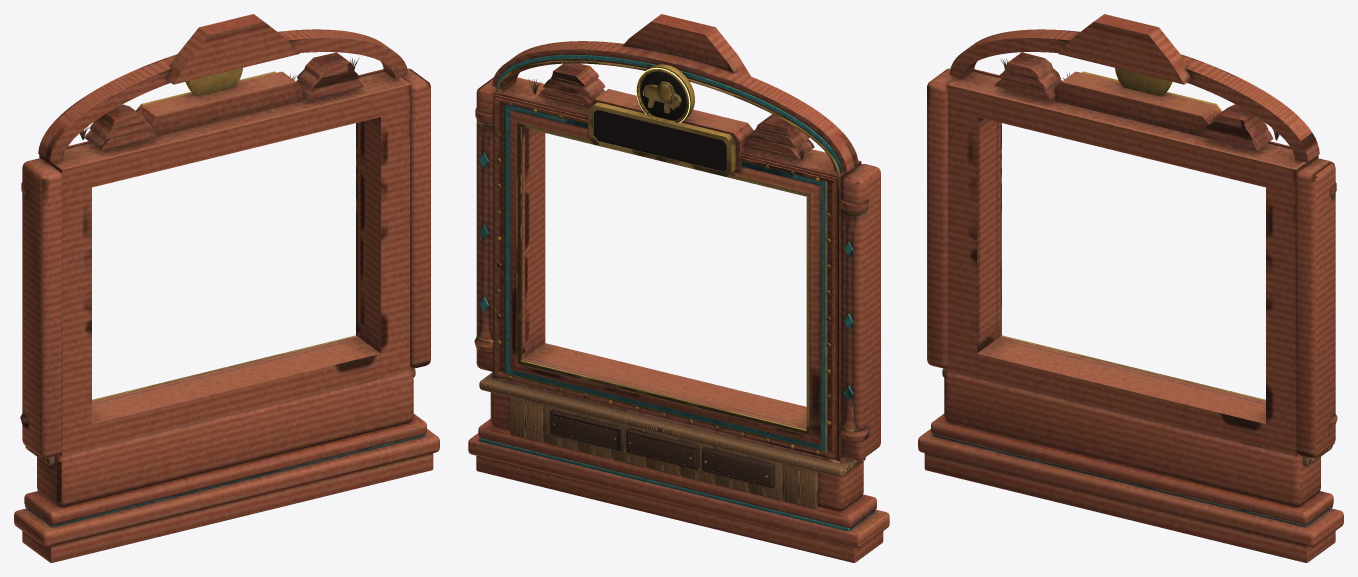
The picture shows the model from 3 angles, left to right: view 1: azimuth 30°, elevation 25°; view 2: azimuth 150°, elevation 25°; view 3: azimuth 330°, elevation 25°; orthographic projection.
Visible parts, largest first — view 1: Sunset_sandstone, Ancient_hammered_gold, Turquoise_inlay; view 2: Sunset_sandstone, Ancient_hammered_gold, Prairie_timber, Turquoise_inlay, Saddle_leather, Even_dark_display; view 3: Sunset_sandstone, Ancient_hammered_gold, Turquoise_inlay.
Boxes of the visible parts, x1,y1,x2,y2 form: Sunset_sandstone: (14, 14, 439, 562); Ancient_hammered_gold: (23, 68, 357, 417); Turquoise_inlay: (25, 434, 424, 526); Sunset_sandstone: (468, 14, 889, 562); Ancient_hammered_gold: (476, 60, 867, 477); Prairie_timber: (479, 77, 865, 508); Turquoise_inlay: (479, 54, 874, 531); Saddle_leather: (550, 410, 774, 487); Even_dark_display: (594, 71, 726, 171); Sunset_sandstone: (918, 14, 1343, 562); Ancient_hammered_gold: (1000, 68, 1334, 417); Turquoise_inlay: (933, 434, 1332, 526).
Size of the model in its own units: 9.42 by 11 by 1.45.
Materials: 7 (6 with a texture image).
